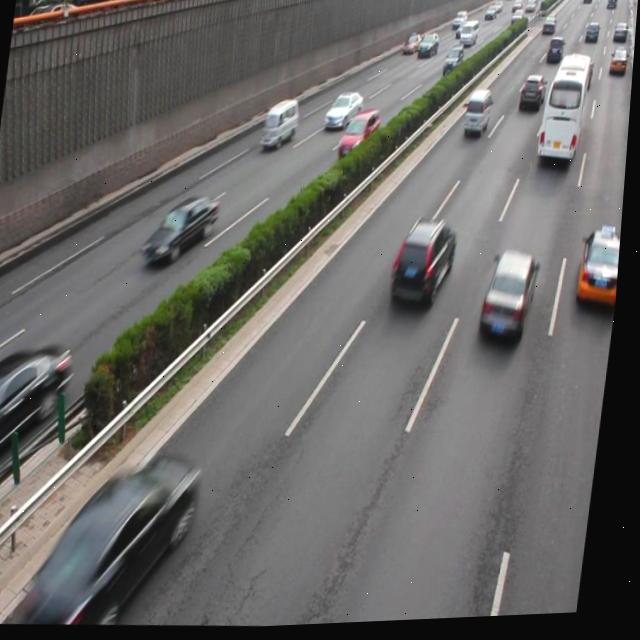car: (44, 458, 205, 619), (0, 341, 78, 475), (391, 219, 461, 314), (481, 251, 543, 350), (145, 193, 223, 270), (577, 231, 625, 316), (339, 109, 383, 163), (324, 91, 364, 134), (518, 76, 547, 118)
truck: (261, 99, 302, 155), (464, 93, 494, 141)
van: (537, 56, 592, 169)
